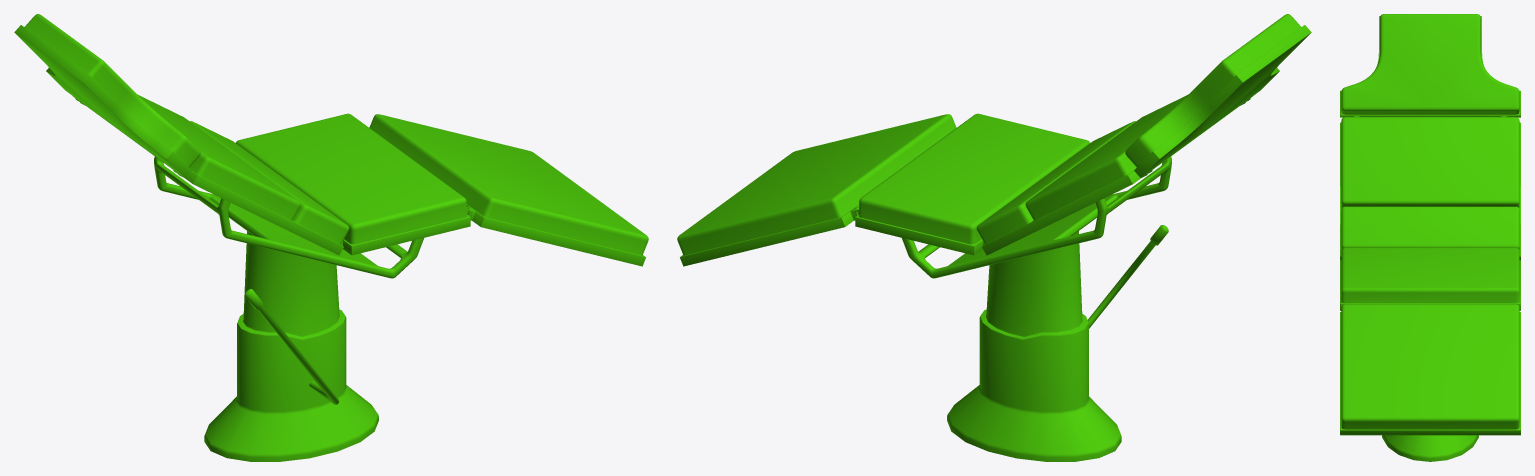
The model's file is SM_ExaminationChair.fbx.
3 views of the same model, side by side, from view 1: azimuth 30°, elevation 25°; view 2: azimuth 150°, elevation 25°; view 3: azimuth 270°, elevation 25° (orthographic). The views are drawn at different scales.
Visible parts, largest first — view 1: ExaminationChair_lp; view 2: ExaminationChair_lp; view 3: ExaminationChair_lp.
Part boxes in pixels (<box>): ExaminationChair_lp: <box>14,14,648,461</box>; ExaminationChair_lp: <box>677,14,1311,461</box>; ExaminationChair_lp: <box>1340,14,1520,461</box>.
Bounding box in the file's own units: 18.21 × 14.39 × 7.
